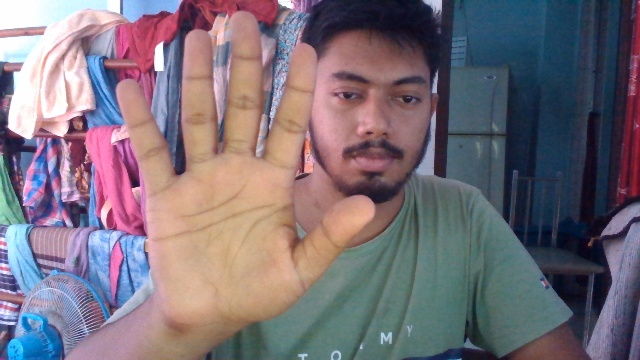hello: (103, 7, 390, 346)
